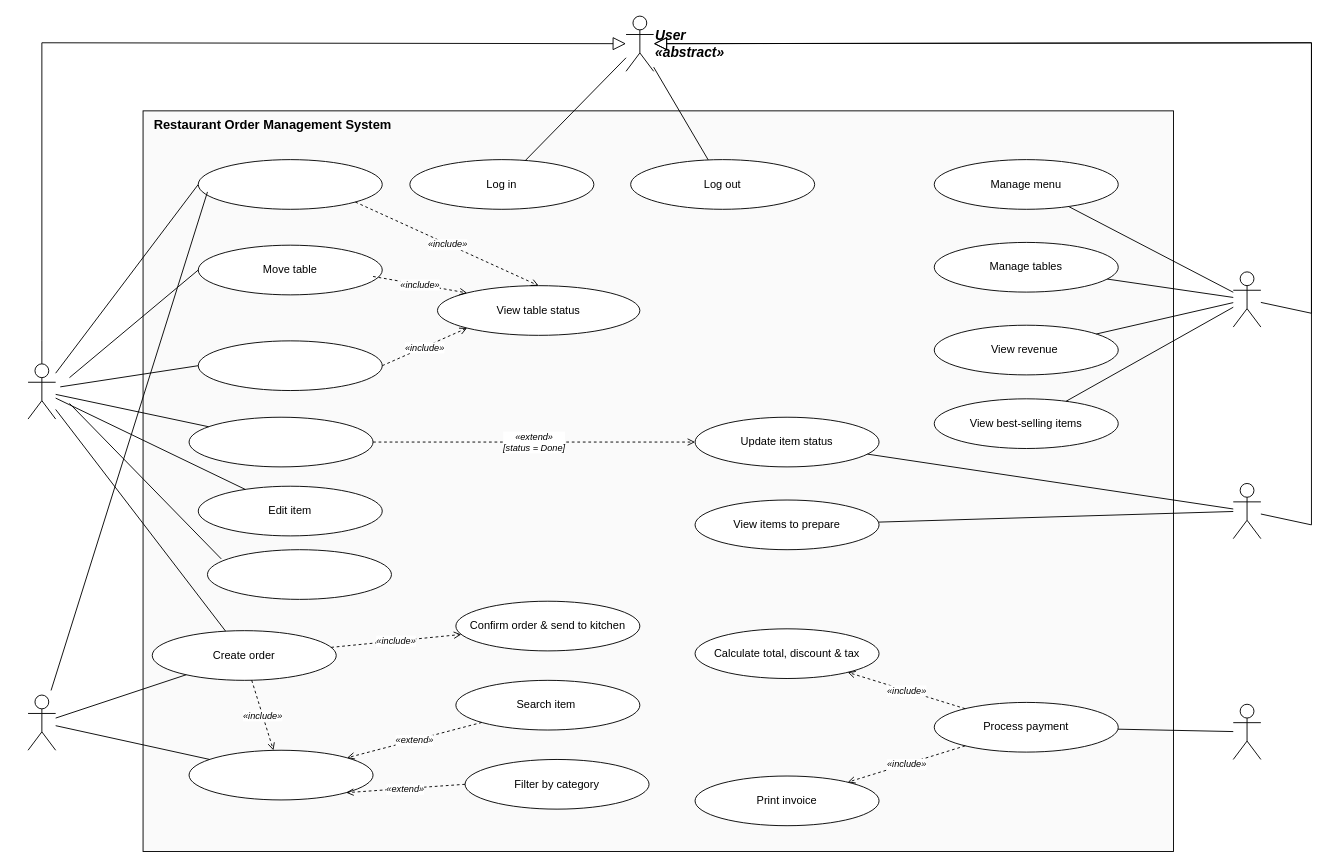
This 1340x868 diagram has some shape labels left out. Here are the shapes that lost their labels. From the top down, the centre of each, then its label:
point (289, 184): Assgin table
point (1246, 299): Manager
point (289, 365): Merge table
point (41, 391): Waitstaff
point (280, 441): Receive “item ready” notification
point (1246, 511): Kitchen
point (299, 574): Cancel item
point (41, 722): Customer
point (1246, 731): Cashier
point (280, 774): View menu
